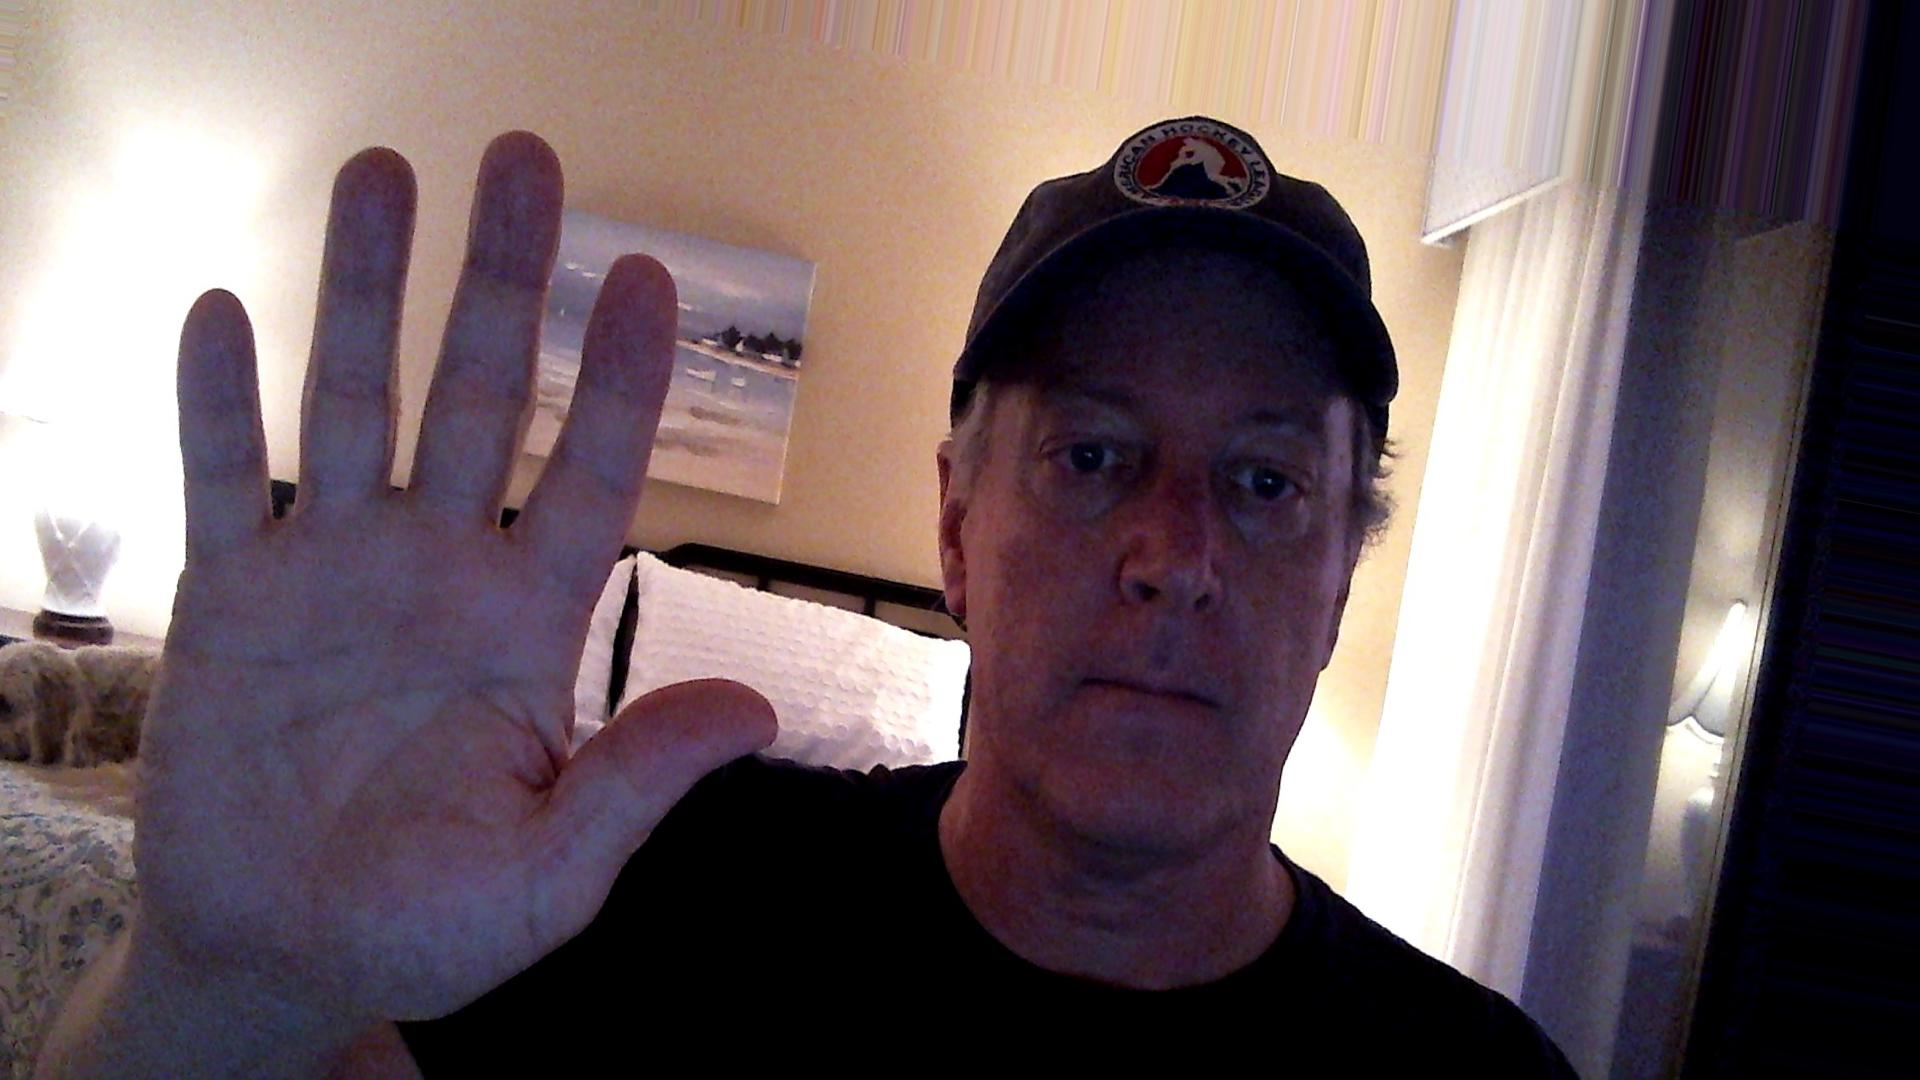Hello: (125, 113, 795, 1030)
